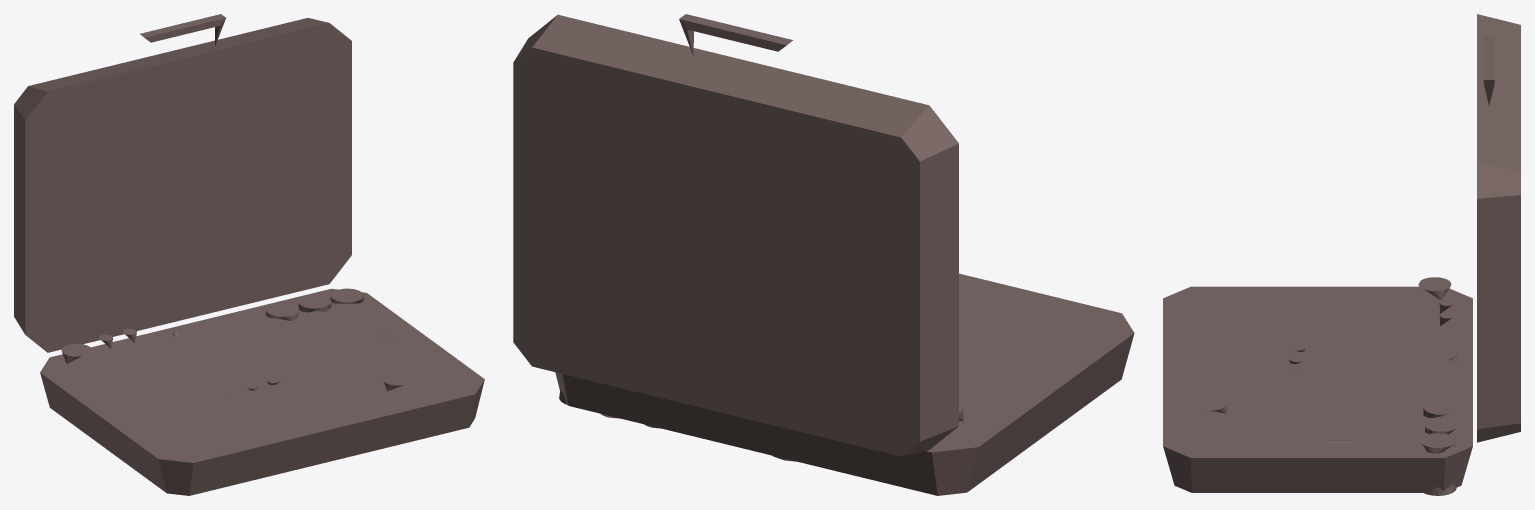
File: first-aid-box.lod0.glb
The picture shows the model from 3 angles, left to right: view 1: azimuth 30°, elevation 25°; view 2: azimuth 150°, elevation 25°; view 3: azimuth 270°, elevation 25°; orthographic projection. The views are drawn at different scales.
Visible parts, largest first — view 1: MetalCover_standardSurface15_0; view 2: MetalCover_standardSurface15_0; view 3: MetalCover_standardSurface15_0.
Boxes of the visible parts, left/top/right/bottom form: MetalCover_standardSurface15_0: left=14, top=14, right=484, bottom=495; MetalCover_standardSurface15_0: left=513, top=14, right=1134, bottom=495; MetalCover_standardSurface15_0: left=1163, top=14, right=1520, bottom=495.
Bounding box in the file's own units: 0.6 × 0.5857 × 0.5295.
